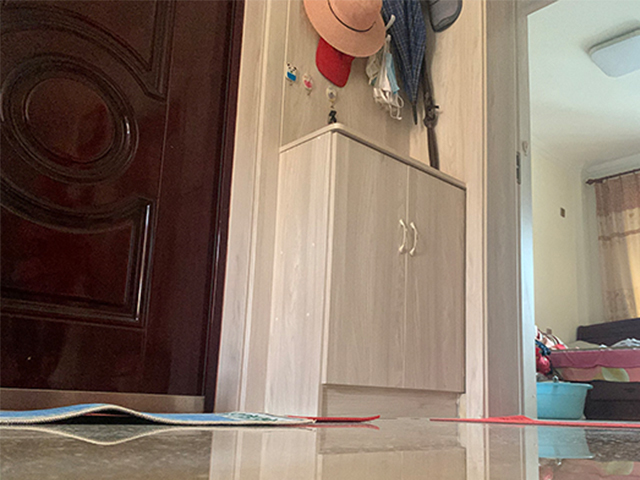bed: (546, 315, 640, 422)
cabinet: (263, 122, 466, 420)
carpet: (1, 403, 382, 428), (429, 413, 640, 429)
